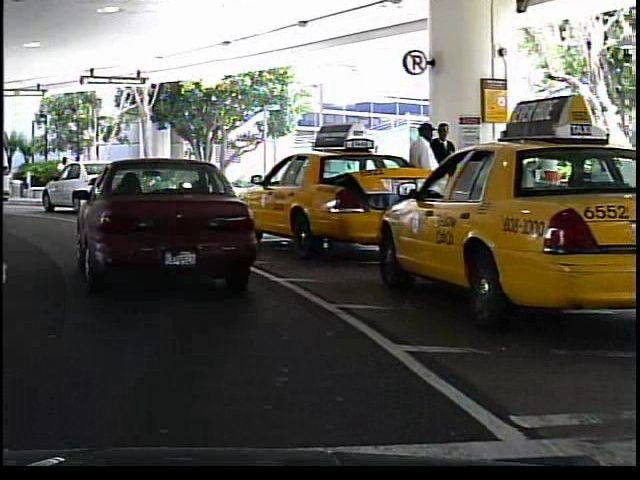person: (403, 120, 445, 241), (430, 119, 462, 234), (50, 152, 74, 197)
